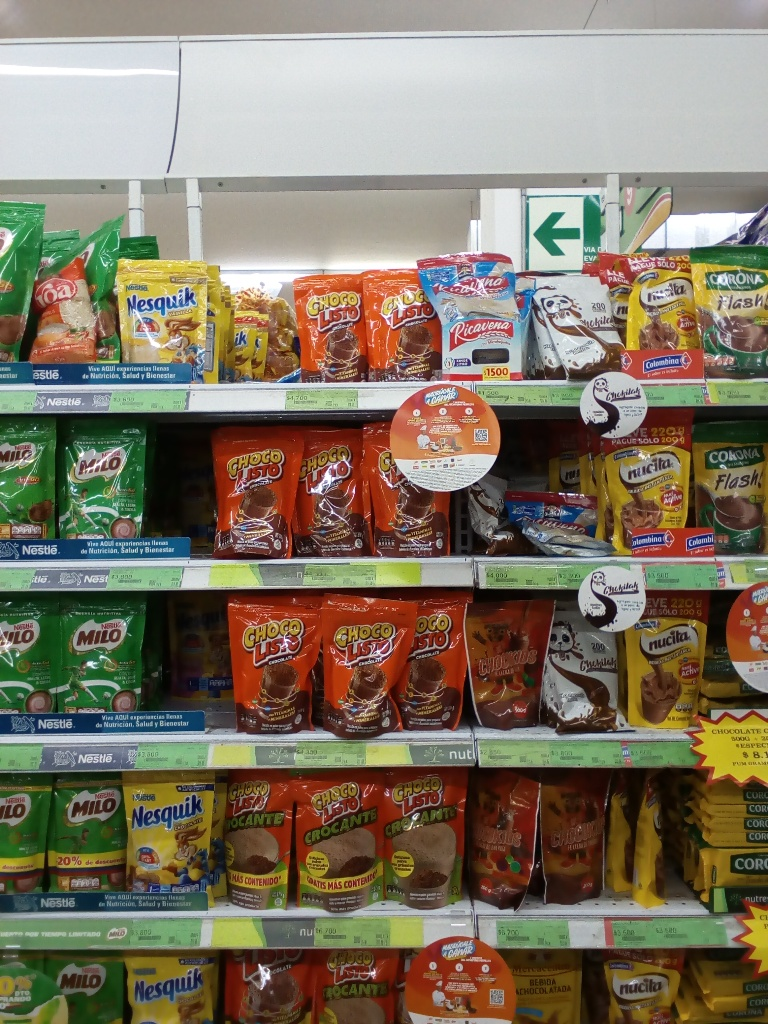COL0170102DYP50000: (391, 774, 469, 913)
COL0170203DYP25000: (2, 422, 61, 545)
COL0170305DYP20000: (155, 593, 228, 724)
COL0170306DYP20000: (119, 257, 221, 386)
